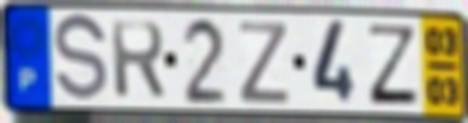2: (182, 14, 228, 108)
4: (310, 17, 364, 111)
R: (108, 18, 168, 103)
S: (52, 11, 111, 108)
Z: (366, 22, 422, 108), (237, 18, 291, 106)
